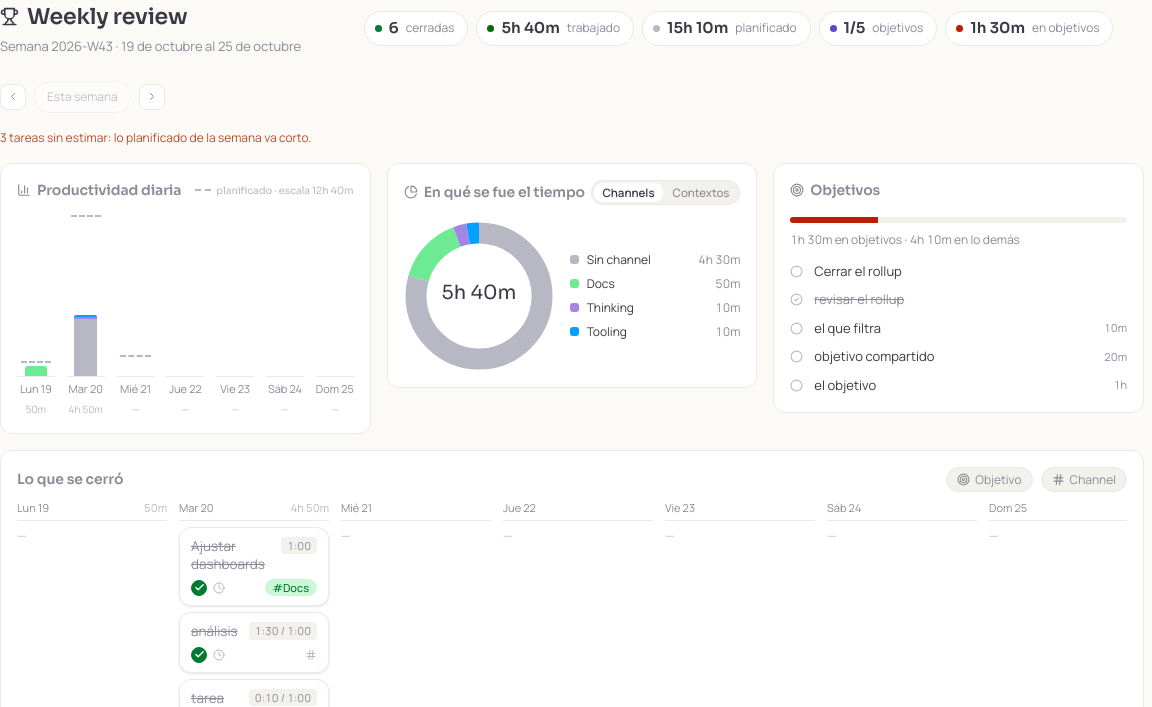
Test: WeeklyReviewView › se puede mirar otra semana, y ahí no hay nada de ésta
This screenshot has width=1152, height=707.
expect the text "5h 40m trabajado" is shown: met, box [476, 11, 634, 46]
Step 1. Click the button named "Semana anterior" → (13,96), box [0, 84, 26, 110]
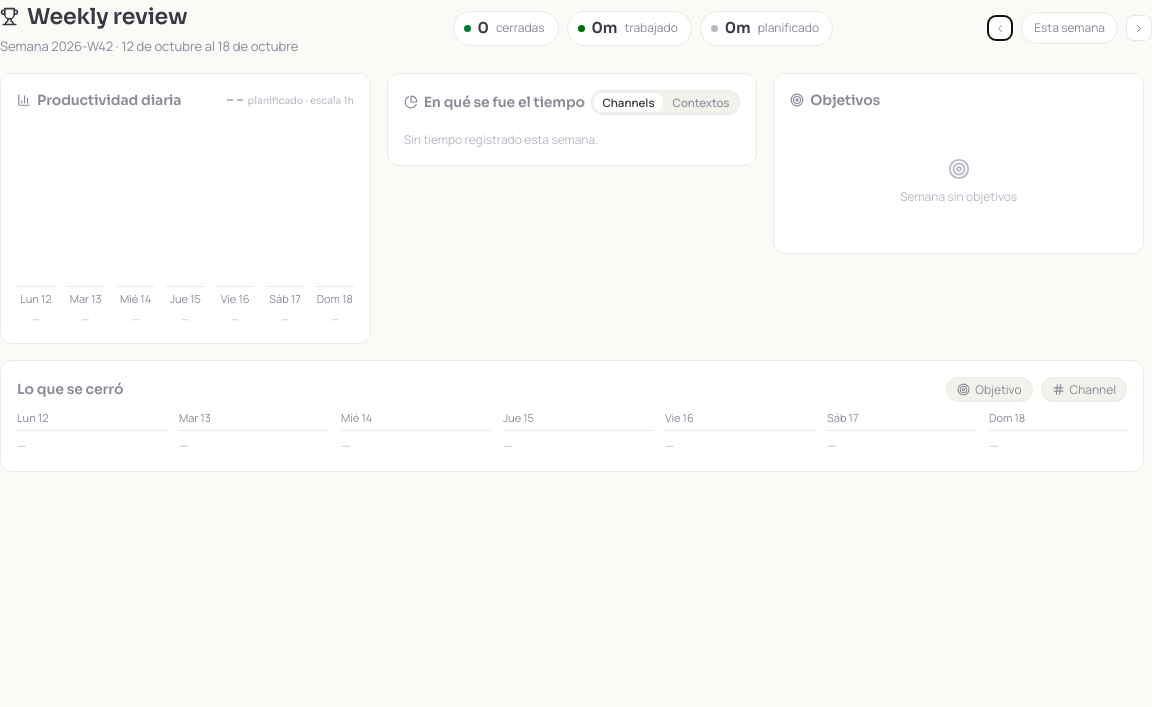
expect the button "Esta semana" is enabled: met, box [1021, 12, 1118, 44]
